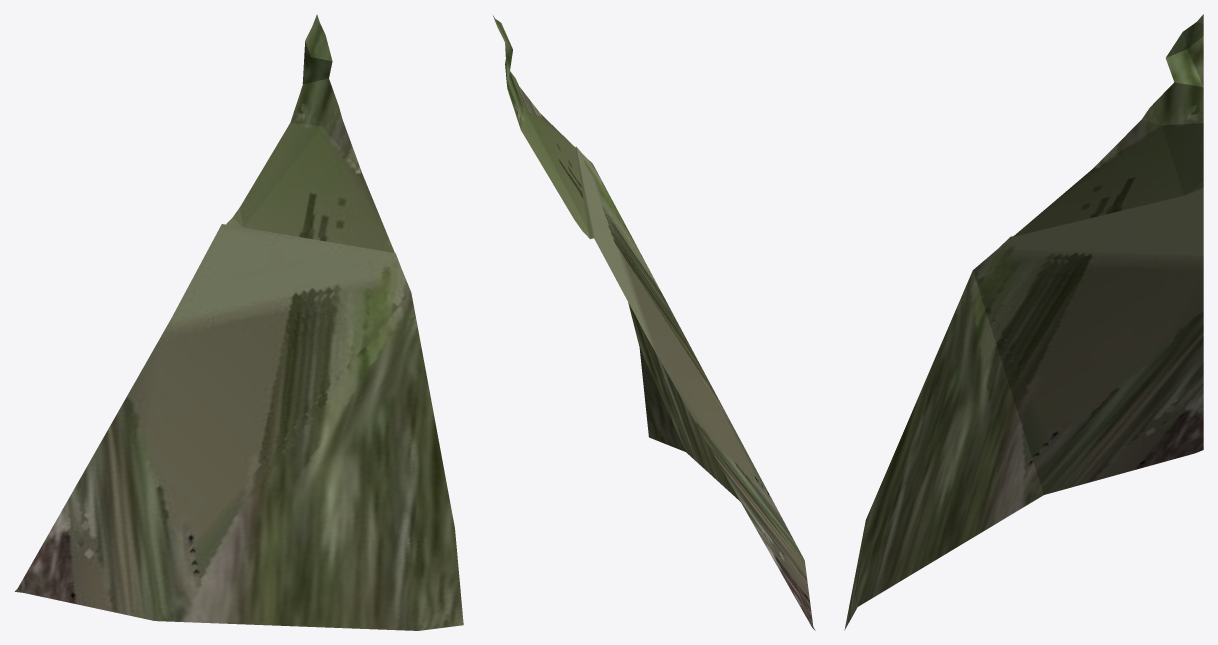
3 renders of one model, left to right at view 1: azimuth 30°, elevation 25°; view 2: azimuth 150°, elevation 25°; view 3: azimuth 270°, elevation 25°, orthographic. The views are drawn at different scales.
Bounding box in the file's own units: 1.58 × 2.51 × 1.32.
1 material, 1 textured.
